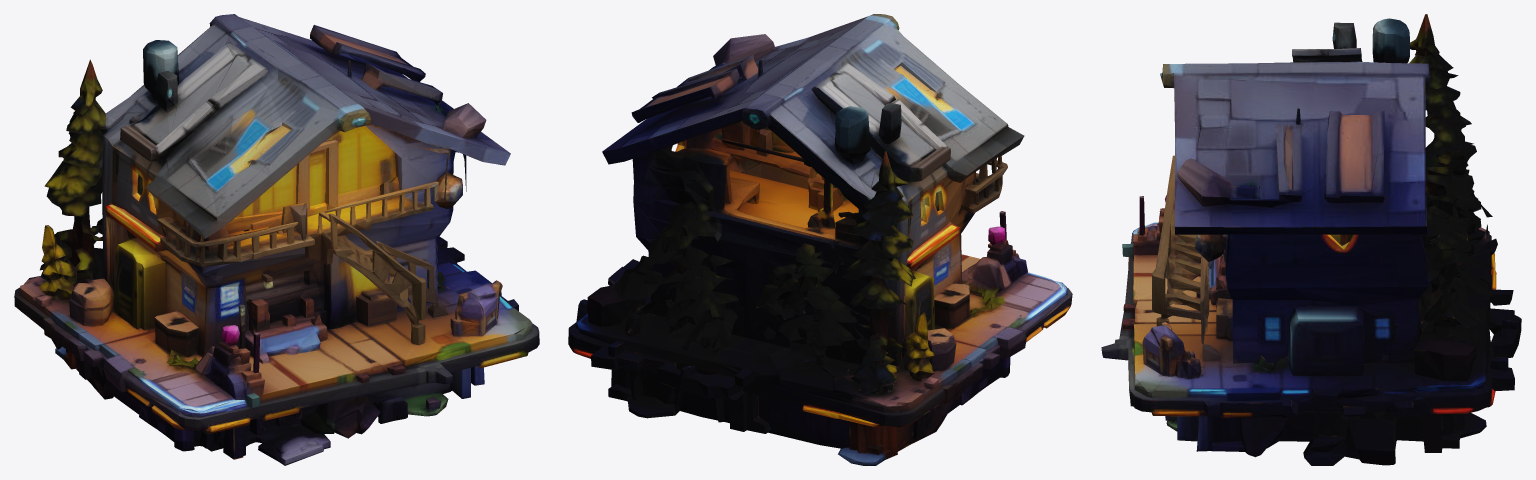
File: prodsix-hi.glb
The picture shows the model from 3 angles, left to right: view 1: azimuth 30°, elevation 25°; view 2: azimuth 150°, elevation 25°; view 3: azimuth 270°, elevation 25°; orthographic projection. The views are drawn at different scales.
Parts seen in each view (by area): view 1: world; view 2: world; view 3: world.
Part boxes in pixels (x1,y1,x2,y2): world: (14, 14, 539, 465); world: (568, 14, 1072, 465); world: (1101, 14, 1521, 465).
Bounding box in the file's own units: 0.9897 × 0.8261 × 0.9672.
Materials: 1 (1 with a texture image).
